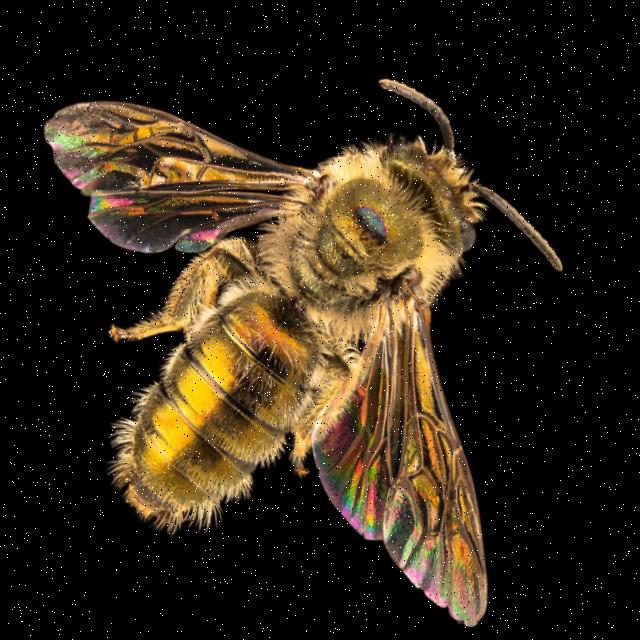Allodapula: (52, 45, 621, 625)
